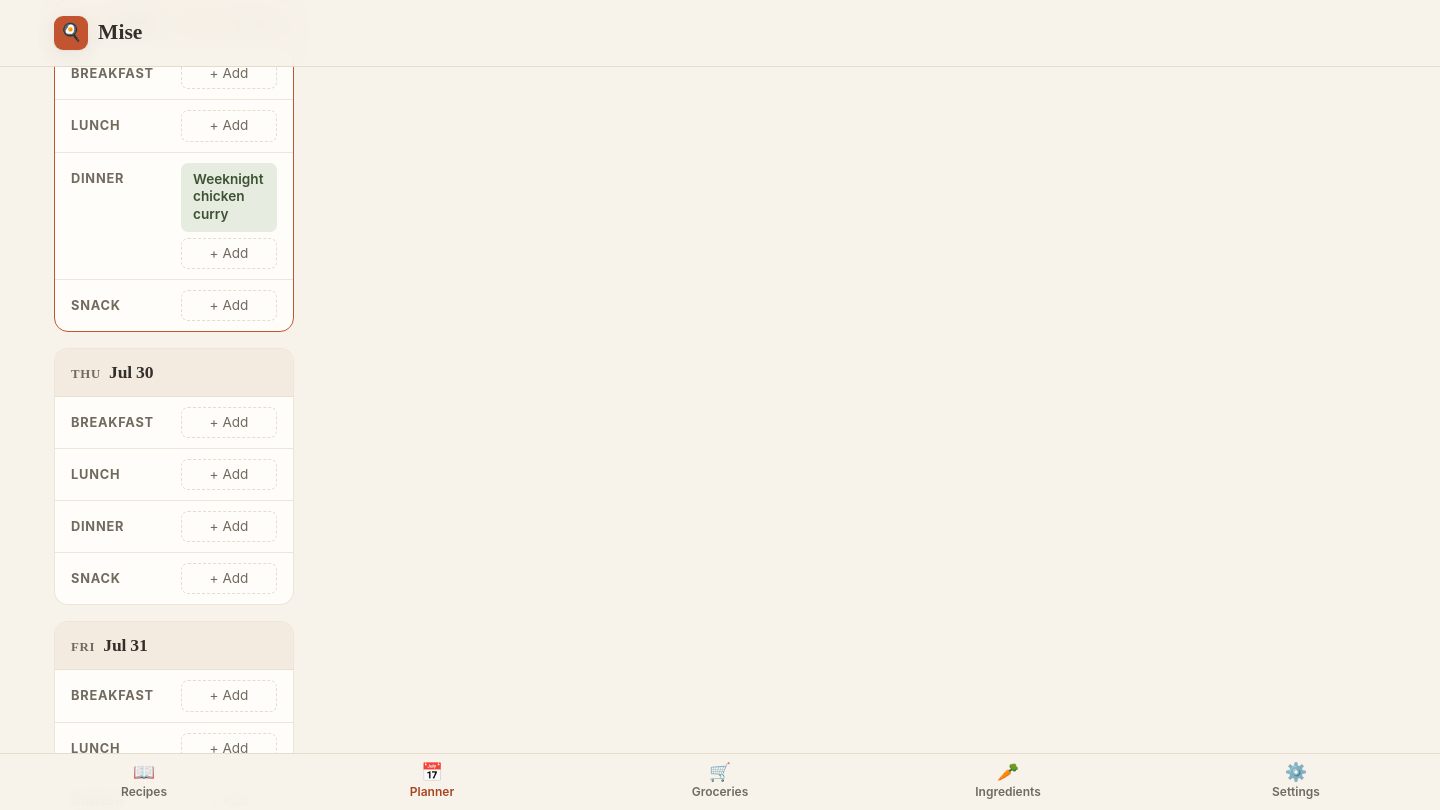
Test: PlannerPage › what the week costs › costs each day and meal in the agenda too
This screenshot has width=1440, height=810.
(page scrolled)
Note: On a phone the meal's own figure is in its sheet, beside its servings.
Click the button "Weeknight chicken curry".
click(229, 197)  # box [193,170,265,224]
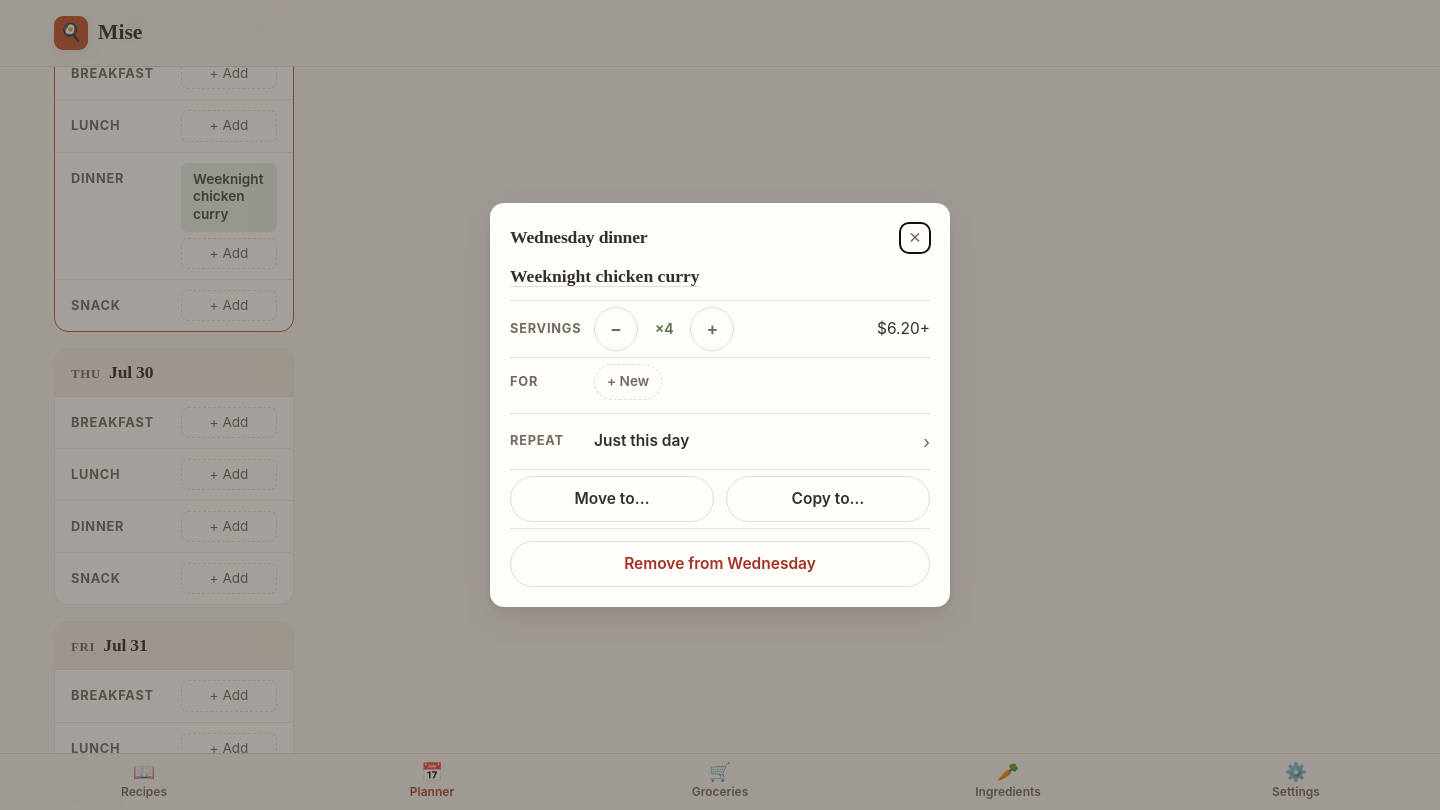
expect the picture named "at least $6.20, 9 of 11 ingredients priced" is shown: met, box [877,317,930,341]
